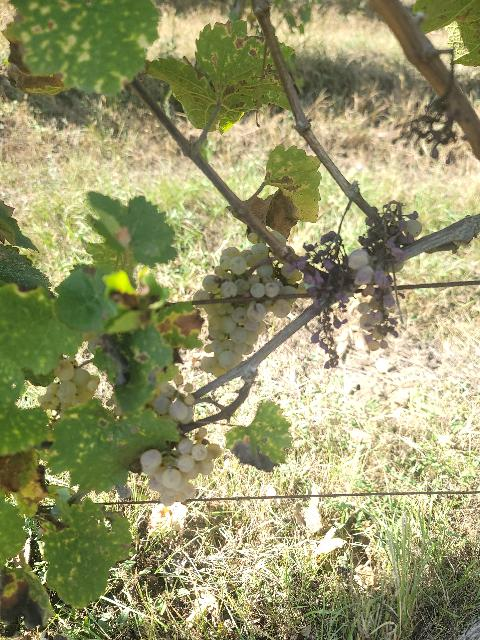grapes: (194, 232, 296, 376)
